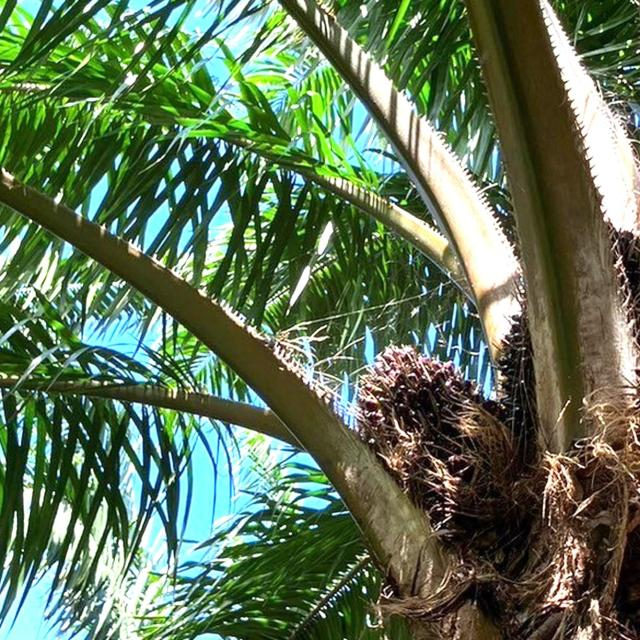ripe: (356, 343, 506, 544)
